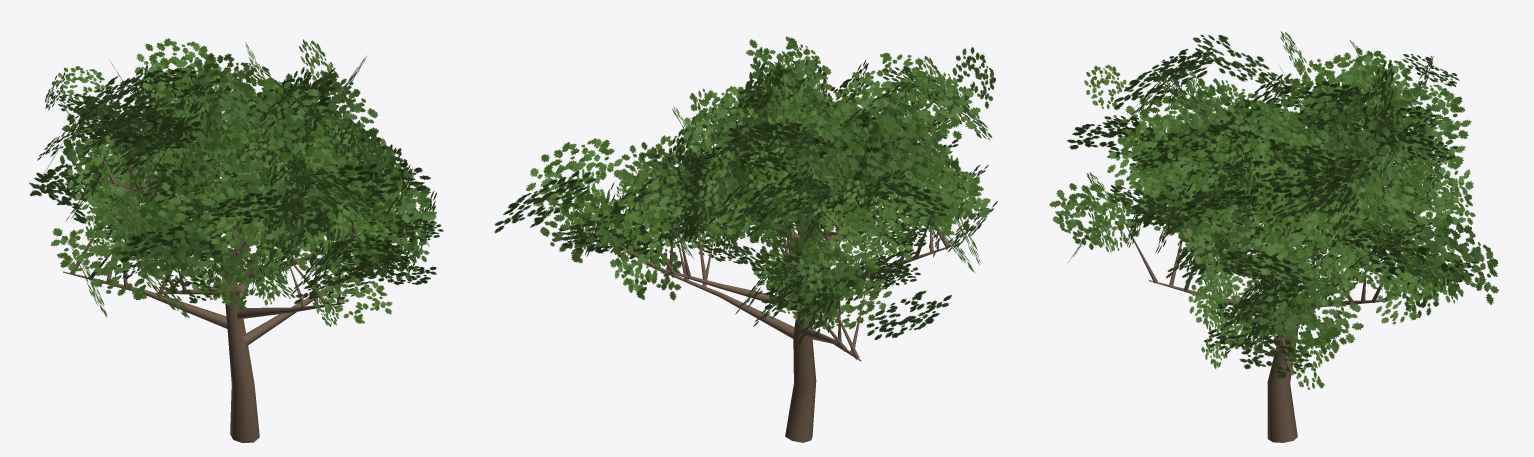
File: oak-31-high.glb
The picture shows the model from 3 angles, left to right: view 1: azimuth 30°, elevation 25°; view 2: azimuth 150°, elevation 25°; view 3: azimuth 270°, elevation 25°; orthographic projection.
Parts seen in each view (by area): view 1: LeafCards, Wood; view 2: LeafCards, Wood; view 3: LeafCards, Wood.
Boxes of the visible parts, bbox=[...] form: LeafCards: bbox=[29, 38, 443, 326]; Wood: bbox=[63, 107, 374, 442]; LeafCards: bbox=[494, 36, 997, 344]; Wood: bbox=[588, 106, 955, 442]; LeafCards: bbox=[1049, 31, 1498, 389]; Wood: bbox=[1124, 96, 1397, 442].
Bounding box in the file's own units: 16.73 × 15.3 × 17.1.
2 materials, 1 textured.
